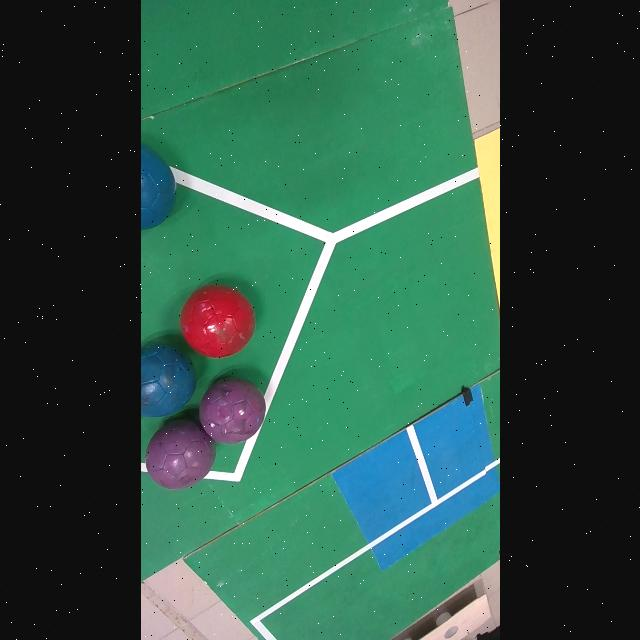B: (140, 345, 196, 418), (140, 144, 175, 230)
P: (146, 420, 215, 489), (199, 378, 265, 444)
R: (181, 284, 254, 358)
